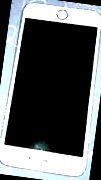iphone: (5, 6, 94, 172)
